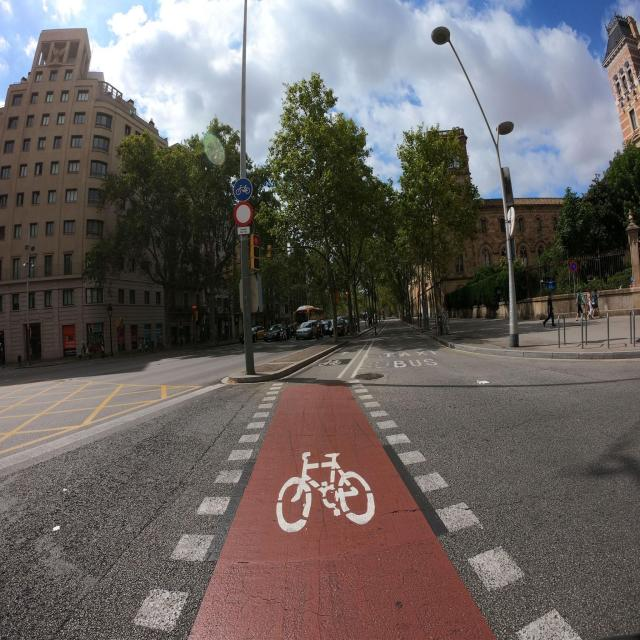forb_stopping: (569, 262, 577, 273)
